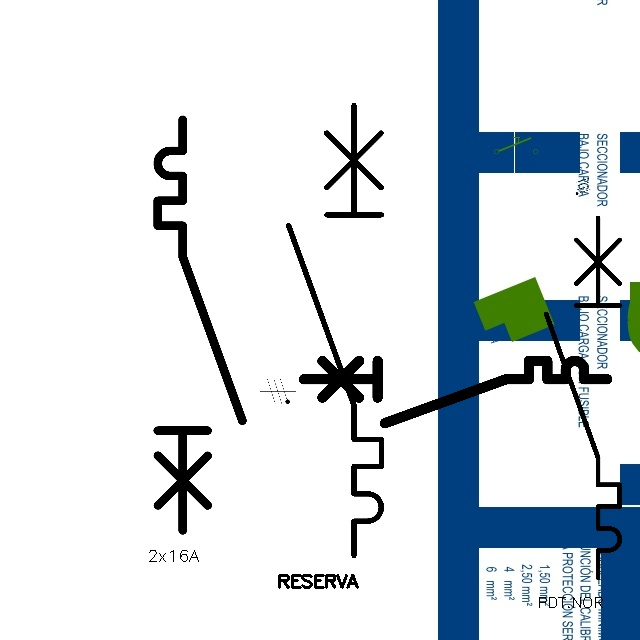interruptor_termomagnetico: (277, 94, 393, 567), (147, 109, 253, 541), (537, 208, 629, 586), (296, 353, 615, 431)
